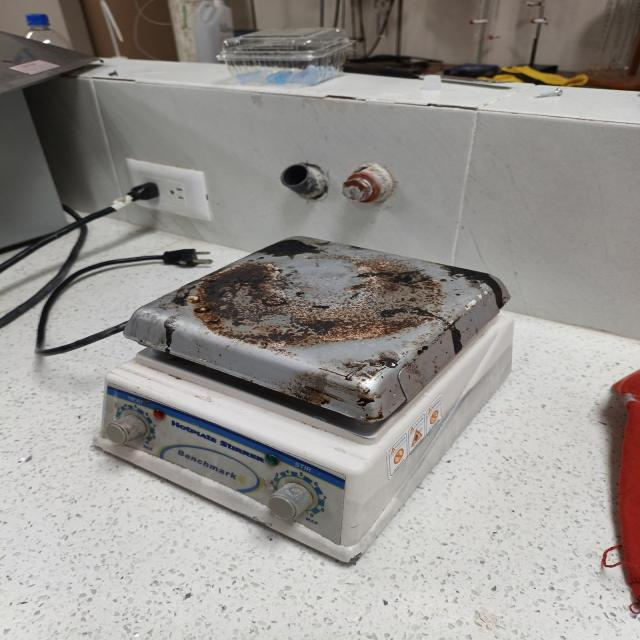Placa Calefactora con Agitador MagneticoMetalico: (96, 236, 511, 560)
